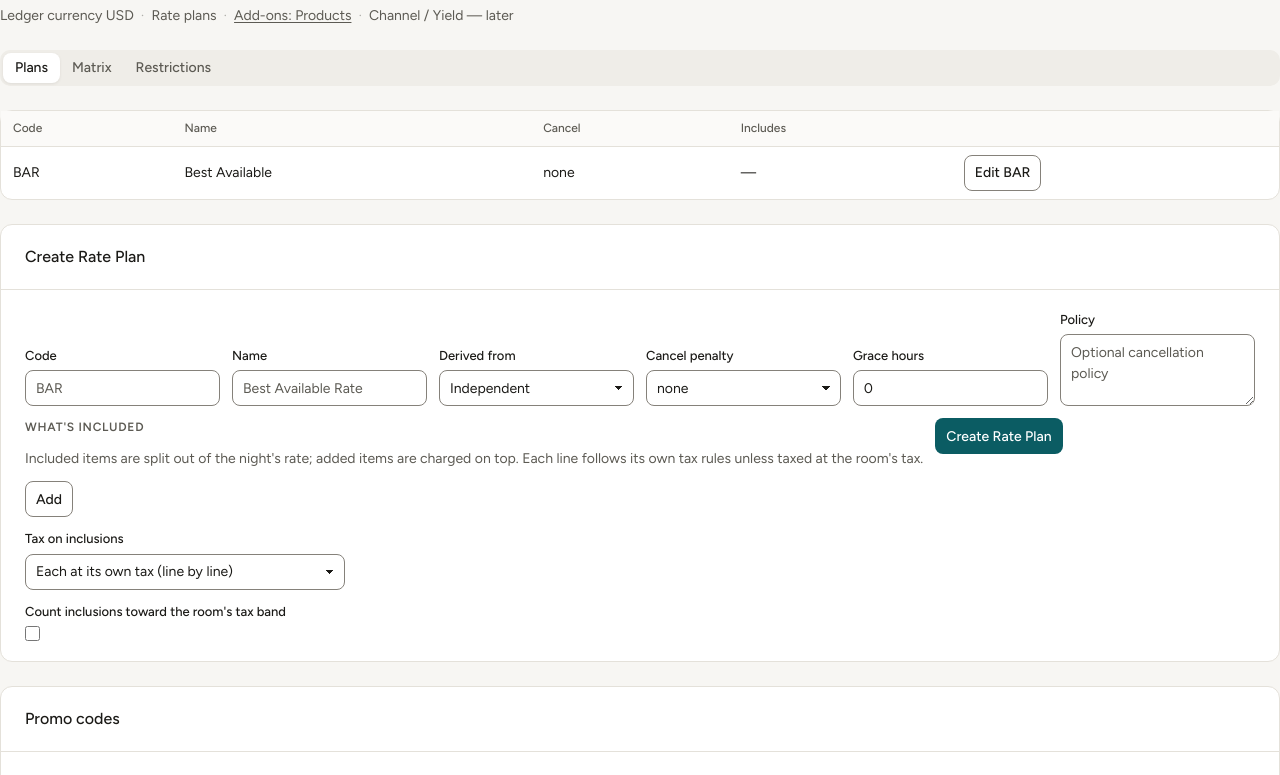
Scenario: RatesScreen › cancel returns the plan form to create mode
Click the button "Edit BAR".
click(1003, 173)  # box [964, 155, 1041, 191]
(page scrolled)
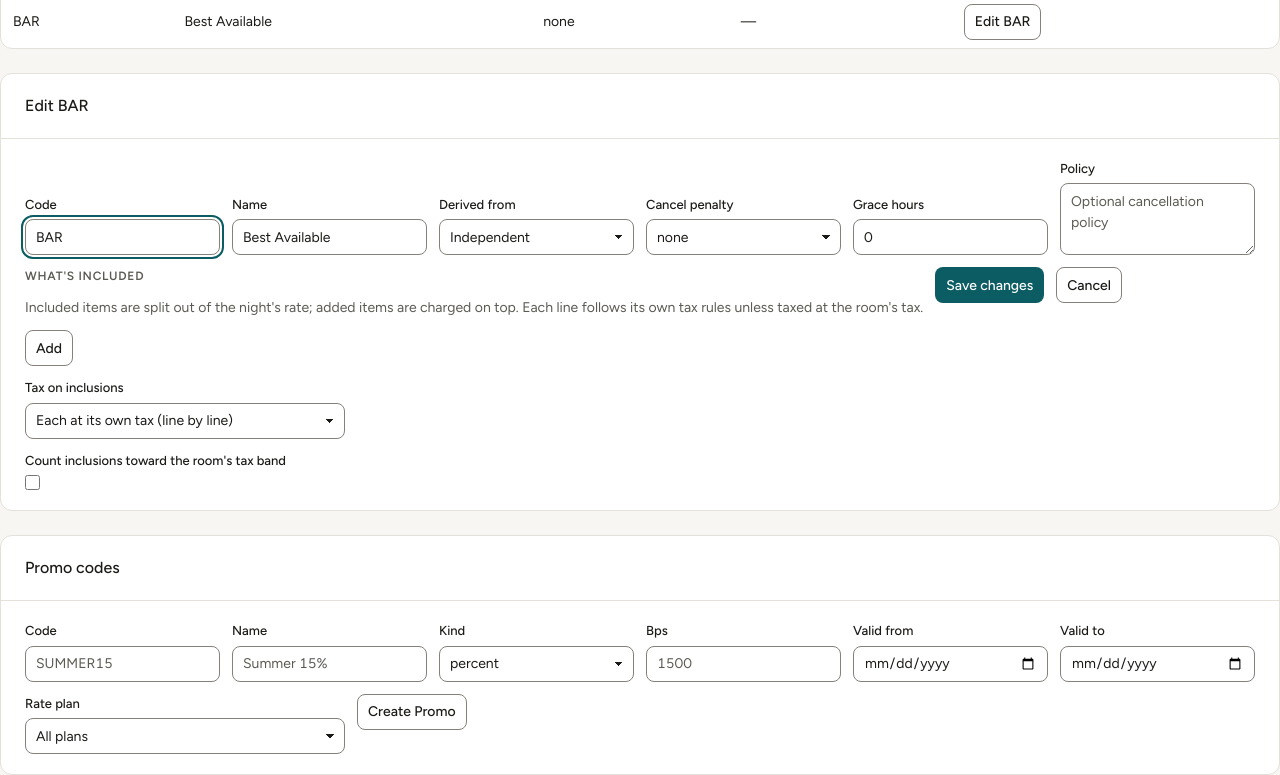
expect the field labelled "Code" below "Derived from" holds "BAR": met, box [25, 220, 220, 256]
Click the button "Cancel".
click(1089, 286)  # box [1056, 268, 1122, 304]
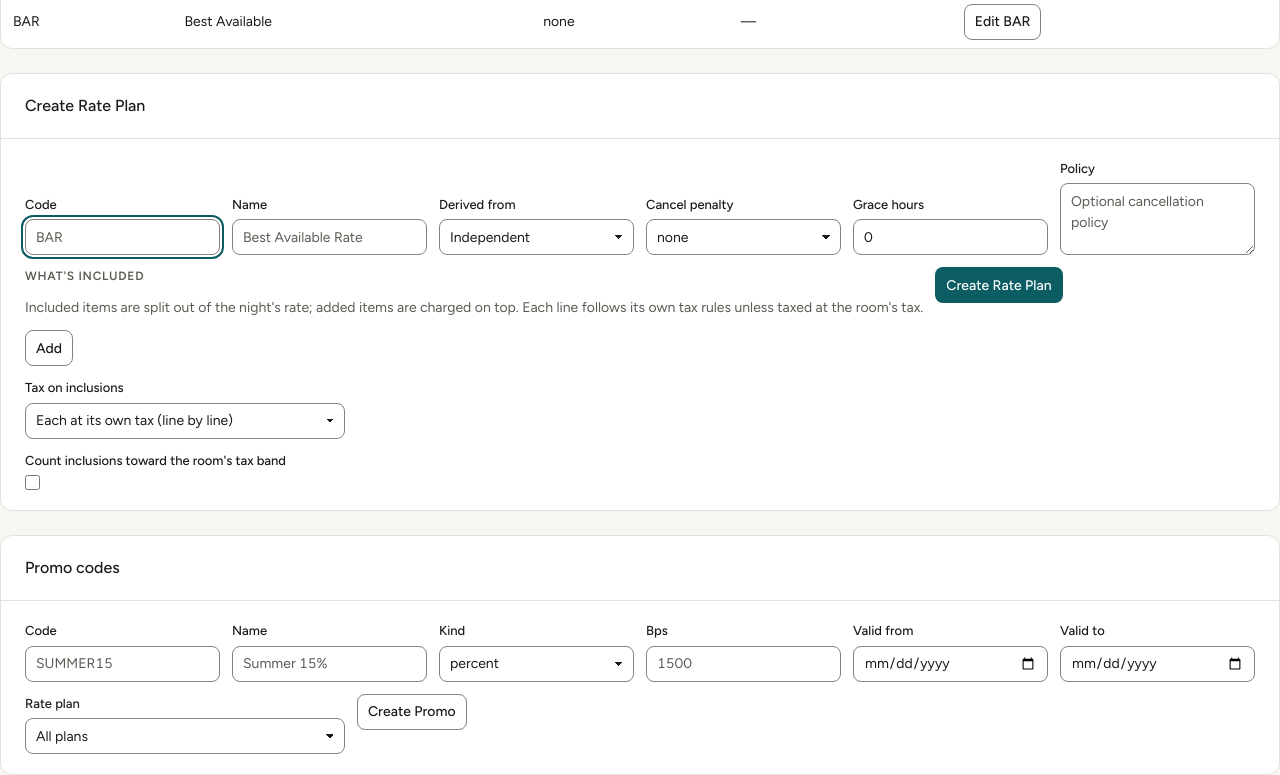
expect the field labelled "Code" below "Derived from" is empty: met, box [25, 220, 220, 256]
